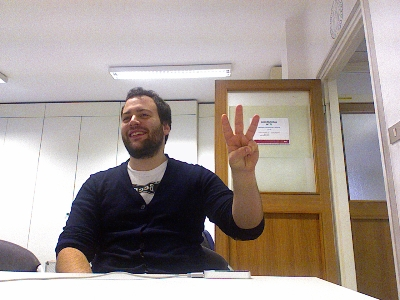三分: (218, 102, 262, 173)
